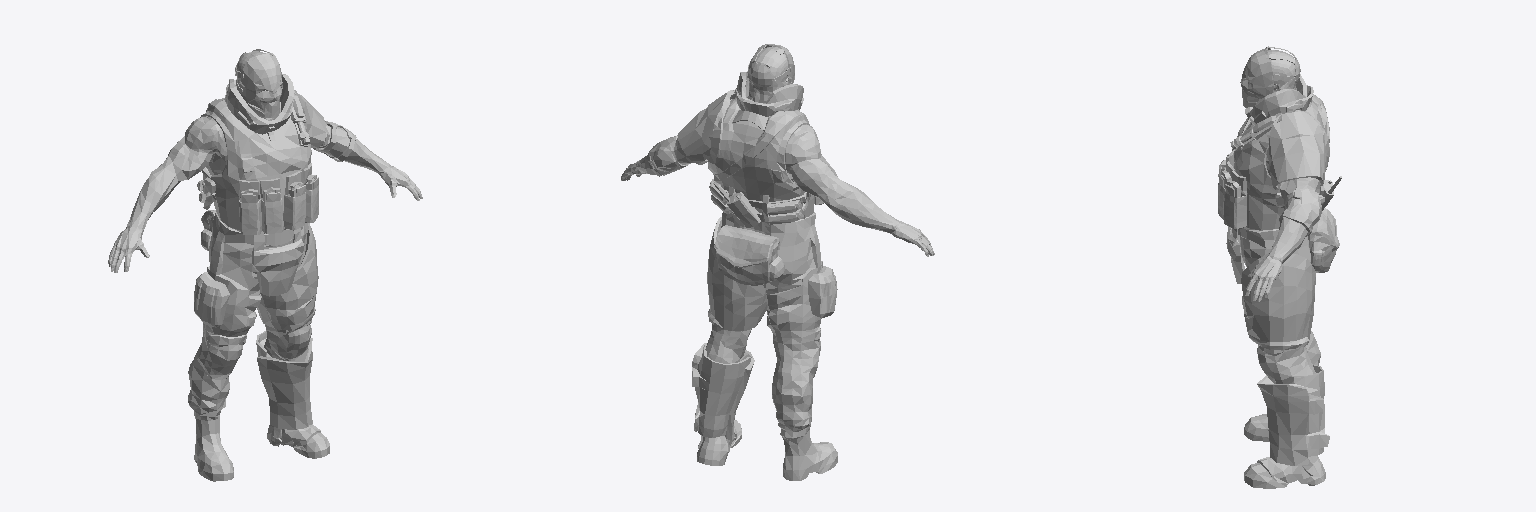
The model's file is slow.obj.
3 views of the same model, side by side, from view 1: azimuth 30°, elevation 25°; view 2: azimuth 150°, elevation 25°; view 3: azimuth 270°, elevation 25° (orthographic).
Visible parts, largest first — view 1: slow_tyson_body, slow_tyson_skin, slow_tyson_armor_calf, slow_tyson_armor_thigh, slow_tyson_mask, slow_shared_armor_pelvis, slow_tyson_armor_shoulder; view 2: slow_tyson_body, slow_tyson_skin, slow_tyson_armor_calf, slow_shared_buttpack, slow_tyson_armor_thigh, slow_tyson_armor_shoulder, slow_tyson_mask; view 3: slow_tyson_body, slow_tyson_armor_calf, slow_tyson_armor_thigh, slow_tyson_armor_shoulder, slow_tyson_skin, slow_tyson_mask, slow_shared_buttpack, slow_shared_armor_pelvis.
Part boxes in pixels (bbox=[...]): slow_tyson_body: bbox=[188, 74, 356, 481]; slow_tyson_skin: bbox=[108, 51, 422, 272]; slow_tyson_armor_calf: bbox=[256, 331, 312, 446]; slow_tyson_armor_thigh: bbox=[257, 223, 318, 330]; slow_tyson_mask: bbox=[235, 49, 282, 118]; slow_shared_armor_pelvis: bbox=[252, 228, 304, 296]; slow_tyson_armor_shoulder: bbox=[294, 90, 325, 147]; slow_tyson_body: bbox=[648, 72, 837, 480]; slow_tyson_skin: bbox=[621, 46, 934, 256]; slow_tyson_armor_calf: bbox=[692, 343, 754, 465]; slow_shared_buttpack: bbox=[714, 214, 784, 285]; slow_tyson_armor_thigh: bbox=[707, 217, 766, 330]; slow_tyson_armor_shoulder: bbox=[678, 90, 735, 164]; slow_tyson_mask: bbox=[747, 44, 794, 86]; slow_tyson_body: bbox=[1218, 74, 1341, 488]; slow_tyson_armor_calf: bbox=[1257, 364, 1329, 485]; slow_tyson_armor_thigh: bbox=[1241, 253, 1315, 349]; slow_tyson_armor_shoulder: bbox=[1269, 112, 1327, 189]; slow_tyson_skin: bbox=[1245, 50, 1320, 301]; slow_tyson_mask: bbox=[1240, 46, 1300, 107]; slow_shared_buttpack: bbox=[1308, 208, 1339, 272]; slow_shared_armor_pelvis: bbox=[1226, 226, 1244, 283].
Size of the model in its own units: 62.74 by 79.47 by 21.77.